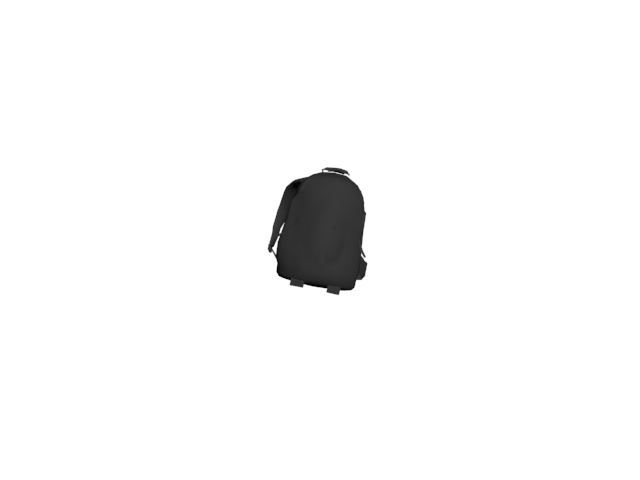back_pack: (265, 161, 368, 296)
